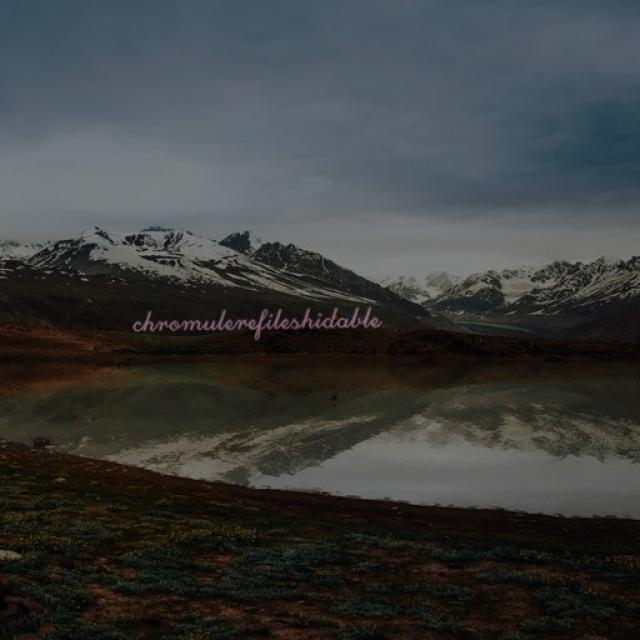watermark: (125, 304, 381, 335)
